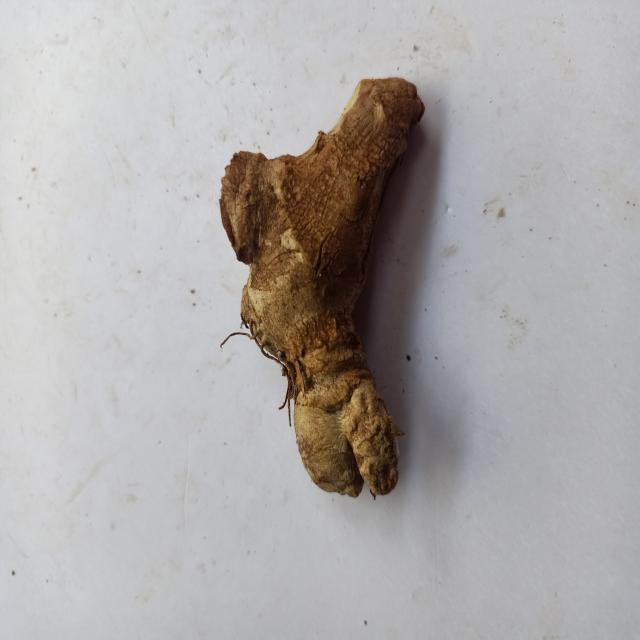Ginger: (220, 77, 424, 497)
